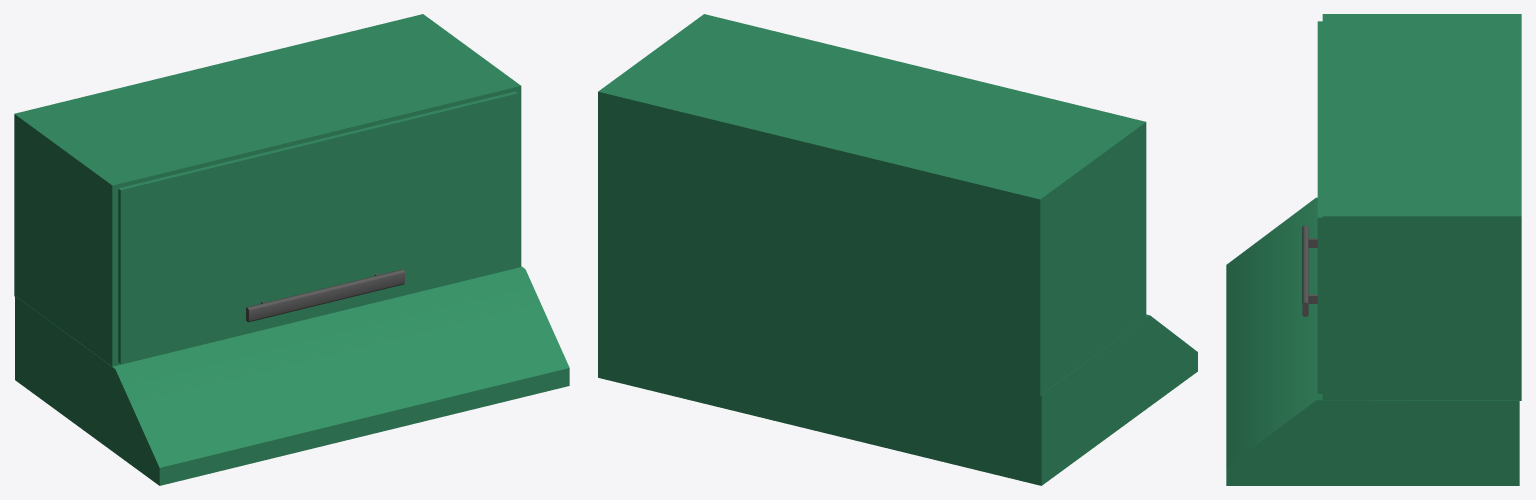
The model's file is mcp_kitchen_cupboard_wall_02.FBX.
3 renders of one model, left to right at view 1: azimuth 30°, elevation 25°; view 2: azimuth 150°, elevation 25°; view 3: azimuth 270°, elevation 25°, orthographic. The views are drawn at different scales.
Visible parts, largest first — view 1: mcp_kitchen_cupboard_wall_02, mcp_kitchen_cupboard_wall_02_knob; view 2: mcp_kitchen_cupboard_wall_02; view 3: mcp_kitchen_cupboard_wall_02, mcp_kitchen_cupboard_wall_02_knob.
Part boxes in pixels (x1,y1,x2,y2): mcp_kitchen_cupboard_wall_02: (14, 14, 569, 485); mcp_kitchen_cupboard_wall_02_knob: (246, 269, 404, 322); mcp_kitchen_cupboard_wall_02: (598, 14, 1197, 485); mcp_kitchen_cupboard_wall_02: (1226, 14, 1521, 485); mcp_kitchen_cupboard_wall_02_knob: (1302, 225, 1317, 316).
Bounding box in the file's own units: 112 × 69.45 × 69.02.
